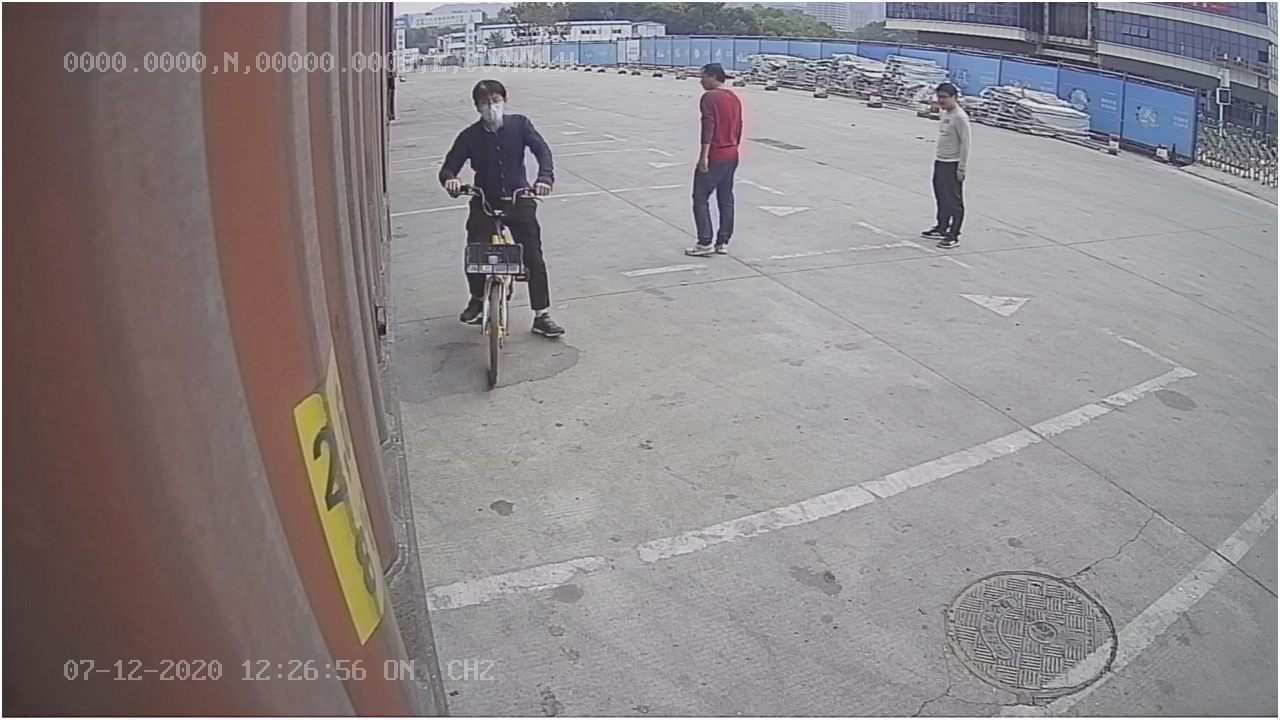person: (679, 60, 748, 260)
